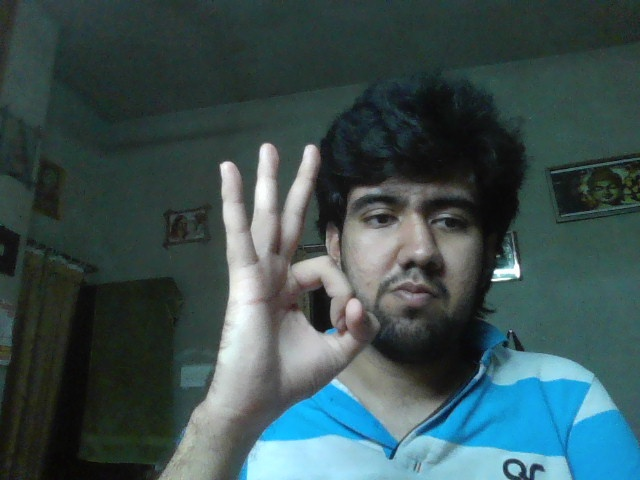Nice: (219, 144, 380, 419)
